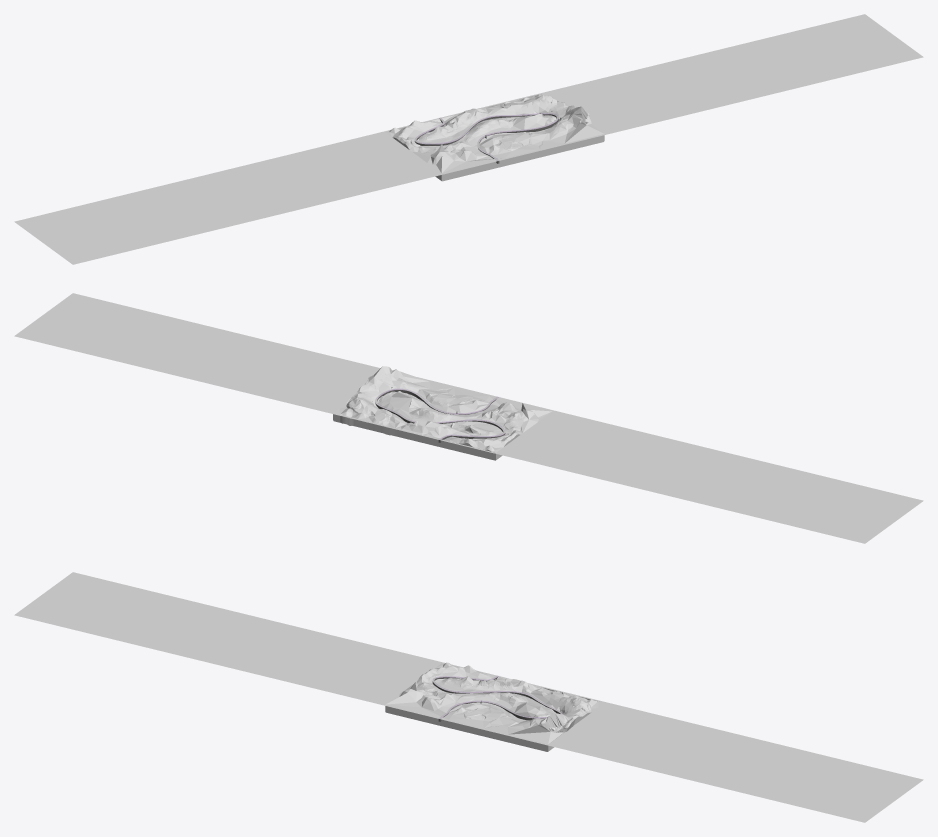
3 views of the same model, one above another, from view 1: azimuth 30°, elevation 25°; view 2: azimuth 150°, elevation 25°; view 3: azimuth 330°, elevation 25° (orthographic).
Visible parts, largest first — view 1: Plane029, Object001, Loft002; view 2: Plane029, Object001, Loft002; view 3: Plane029, Object001.
Boxes of the visible parts, x1=… form: Plane029: x1=14, y1=14, x2=923, y2=264; Object001: x1=385, y1=92, x2=604, y2=180; Loft002: x1=414, y1=113, x2=558, y2=160; Plane029: x1=14, y1=293, x2=923, y2=543; Object001: x1=333, y1=366, x2=552, y2=459; Loft002: x1=375, y1=389, x2=505, y2=439; Plane029: x1=14, y1=572, x2=923, y2=822; Object001: x1=385, y1=662, x2=603, y2=751.
Bounding box in the file's own units: 20000 × 2555 × 603.
